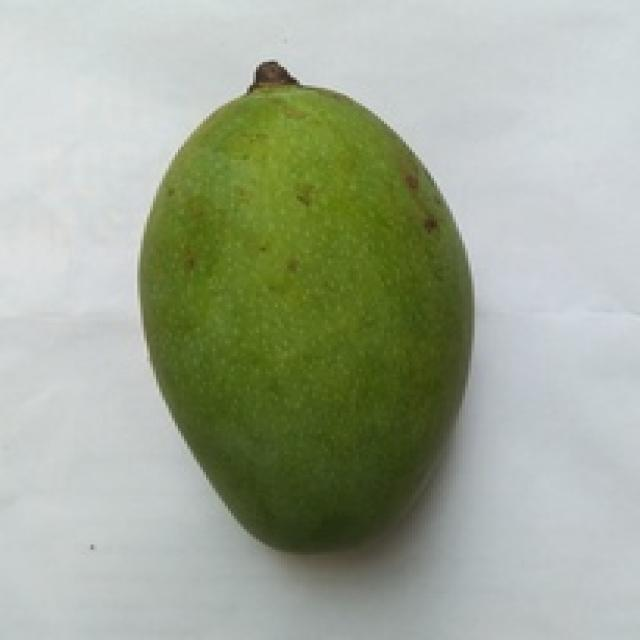Mango: (137, 72, 468, 550)
